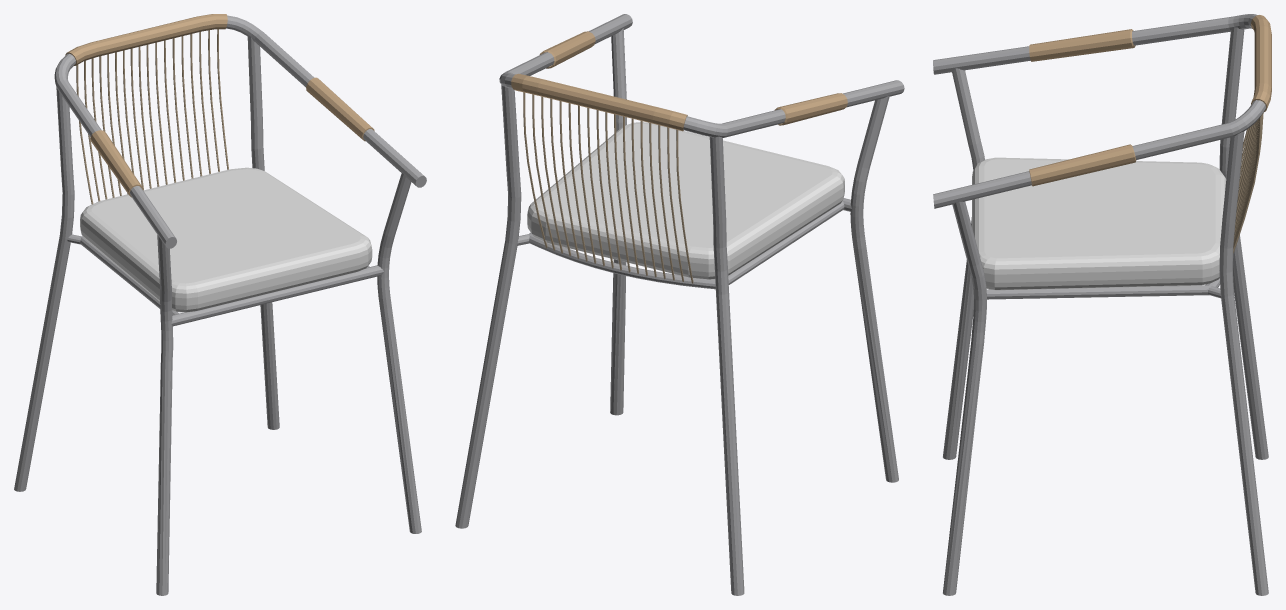
Rendered from item2.glb.
3 renders of one model, left to right at view 1: azimuth 30°, elevation 25°; view 2: azimuth 150°, elevation 25°; view 3: azimuth 270°, elevation 25°, orthographic. The views are drawn at different scales.
Parts seen in each view (by area): view 1: Node700, Node688, Node696, Node692, Node519, Node520, Node1516, Node1518, Node1729, Node1727; view 2: Node700, Node696, Node688, Node692, Node1735, Node1734, Node1736, Node1737, Node1402, Node1403, Node1405, Node1404 (+1 smaller); view 3: Node688, Node700, Node692, Node696, Node387, Node388, Node1394, Node1397, Node1396, Node1395, Node482, Node481 (+31 smaller).
Part boxes in pixels (x1,y1,x2,y2): Node700: [193, 225, 351, 282]; Node688: [221, 171, 359, 236]; Node696: [92, 211, 220, 281]; Node692: [104, 170, 231, 224]; Node519: [200, 257, 359, 296]; Node520: [198, 266, 354, 304]; Node1516: [162, 369, 165, 595]; Node1518: [159, 363, 162, 595]; Node1729: [21, 238, 65, 481]; Node1727: [24, 239, 67, 483]; Node700: [651, 125, 823, 186]; Node696: [681, 175, 830, 241]; Node688: [541, 126, 680, 201]; Node692: [554, 187, 692, 246]; Node1735: [722, 294, 740, 589]; Node1734: [722, 298, 740, 595]; Node1736: [719, 301, 737, 595]; Node1737: [718, 294, 737, 590]; Node1402: [460, 243, 512, 518]; Node1403: [458, 253, 510, 528]; Node1405: [462, 254, 513, 528]; Node1404: [463, 244, 515, 518]; Node688: [997, 209, 1198, 258]; Node700: [984, 166, 1098, 251]; Node692: [1099, 174, 1215, 242]; Node696: [997, 159, 1199, 208]; Node387: [994, 269, 1200, 282]; Node388: [996, 269, 1202, 282]; Node1394: [1224, 296, 1258, 589]; Node1397: [1232, 304, 1265, 595]; Node1396: [1228, 296, 1261, 589]; Node1395: [1228, 304, 1261, 595]; Node482: [994, 264, 1195, 274]; Node481: [1001, 264, 1202, 274].
Size of the model in its own units: 20.33 by 31.5 by 20.55.
